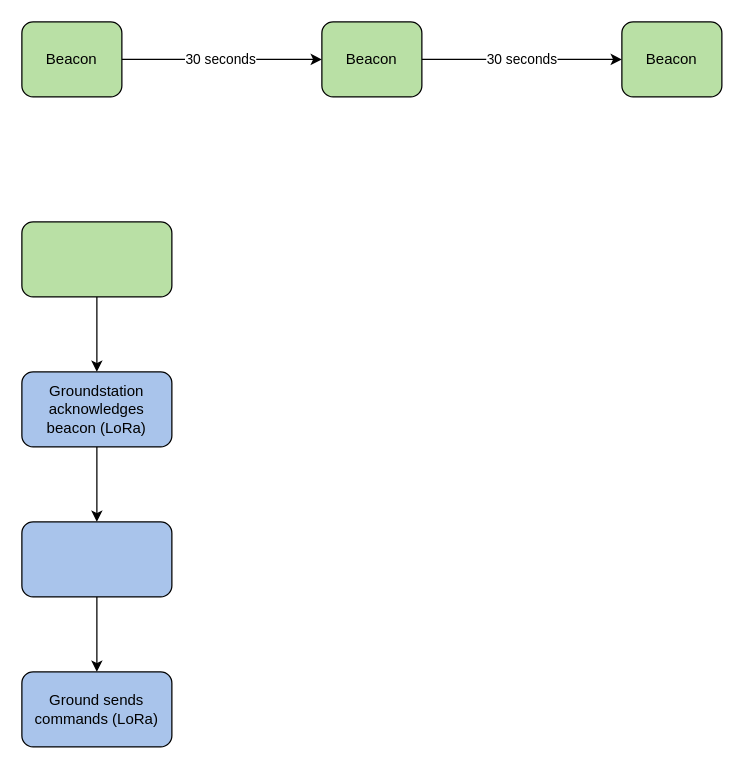
The diagram is 744 pixels wide and 769 high, and some of its shapes have lost their labels. Here are the shapes that lost their labels. From the top down, the box of each, then its label:
(21, 221, 172, 297): Beacon (CW)
(21, 521, 172, 597): Satellite streams telemetry (LoRa)
